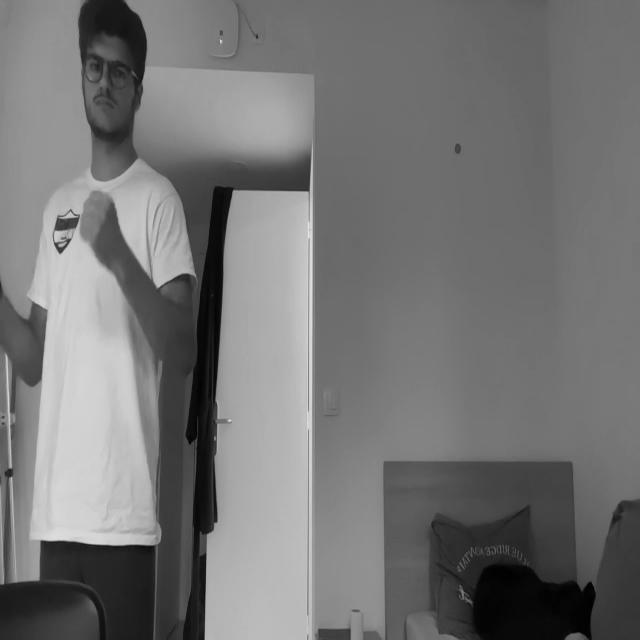elbow: (160, 316, 195, 379), (21, 331, 46, 389)
hand: (79, 190, 119, 260)
shoulder: (150, 172, 186, 255), (40, 189, 54, 263)
